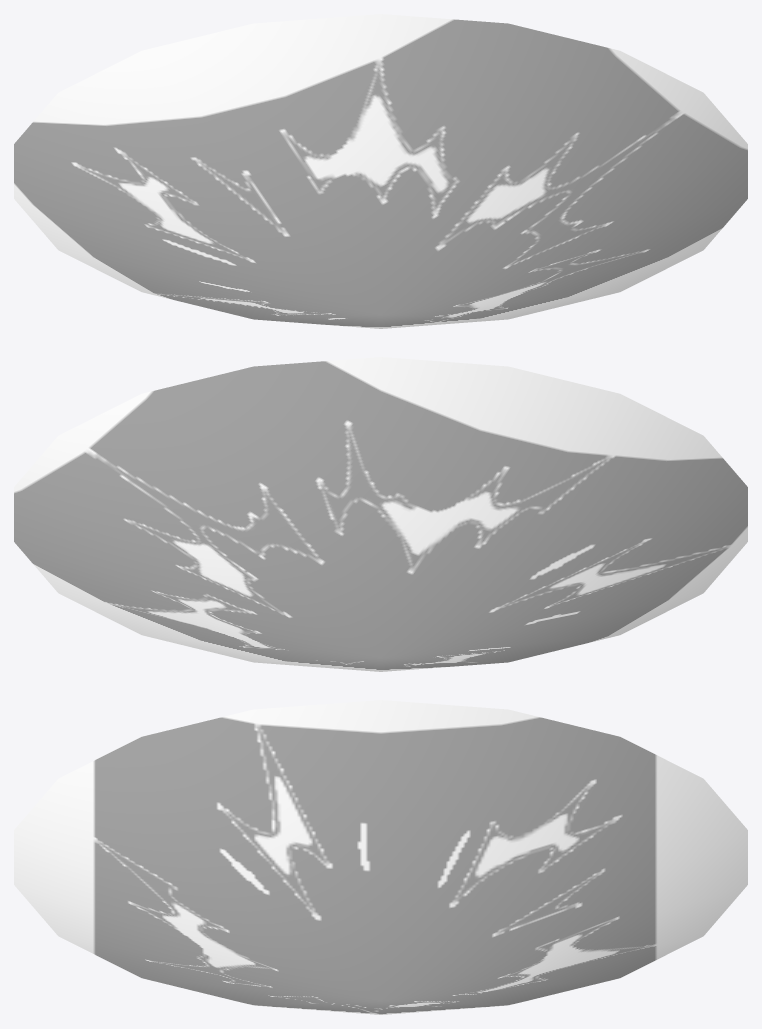
Rendered from eff_cylinder_s_06.FBX.
3 views of the same model, one above another, from view 1: azimuth 30°, elevation 25°; view 2: azimuth 150°, elevation 25°; view 3: azimuth 270°, elevation 25° (orthographic).
Parts seen in each view (by area): view 1: eff_cylinder_s_06; view 2: eff_cylinder_s_06; view 3: eff_cylinder_s_06.
Part boxes in pixels (box(x1,y1,x2,y2)): eff_cylinder_s_06: box(14, 14, 747, 328); eff_cylinder_s_06: box(14, 357, 747, 671); eff_cylinder_s_06: box(14, 700, 747, 1014).
Size of the model in its own units: 9.56 by 2.03 by 9.42.
